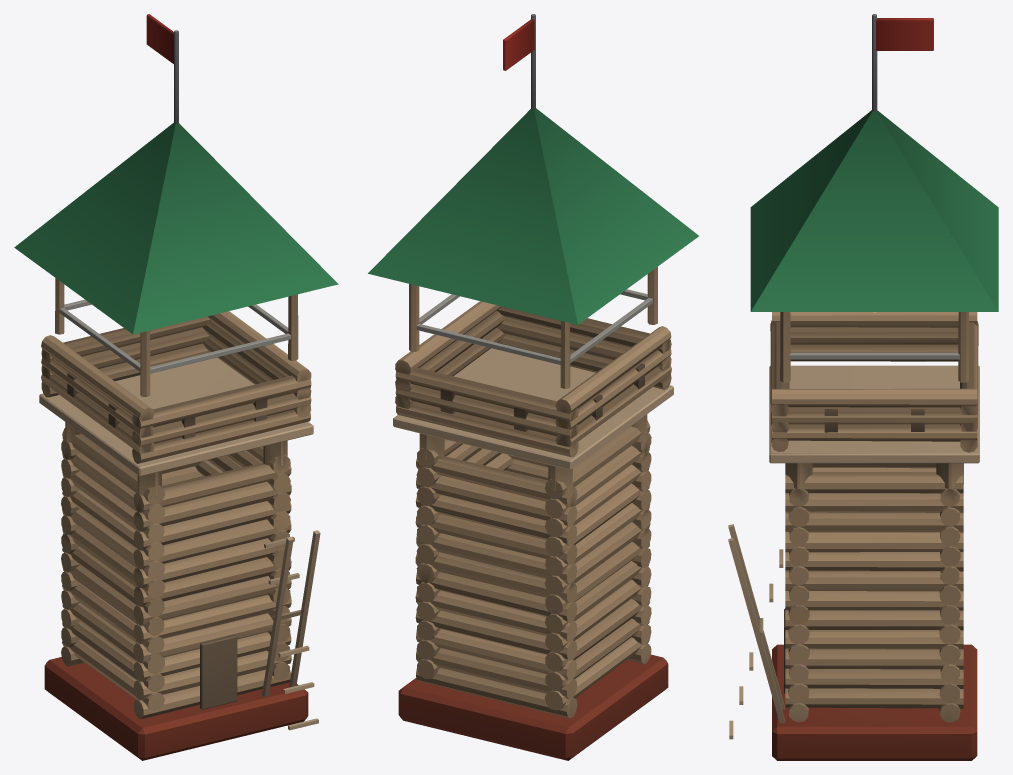
Rendered from bld_tower_e2.glb.
The picture shows the model from 3 angles, left to right: view 1: azimuth 30°, elevation 25°; view 2: azimuth 150°, elevation 25°; view 3: azimuth 270°, elevation 25°; orthographic projection. The views are drawn at different scales.
Parts seen in each view (by area): view 1: tower; view 2: tower; view 3: tower.
Boxes of the visible parts, x1,y1,x2,y2 form: tower: (14, 14, 338, 760); tower: (368, 14, 698, 760); tower: (728, 14, 998, 760).
Size of the model in its own units: 0.918 by 2.88 by 1.
